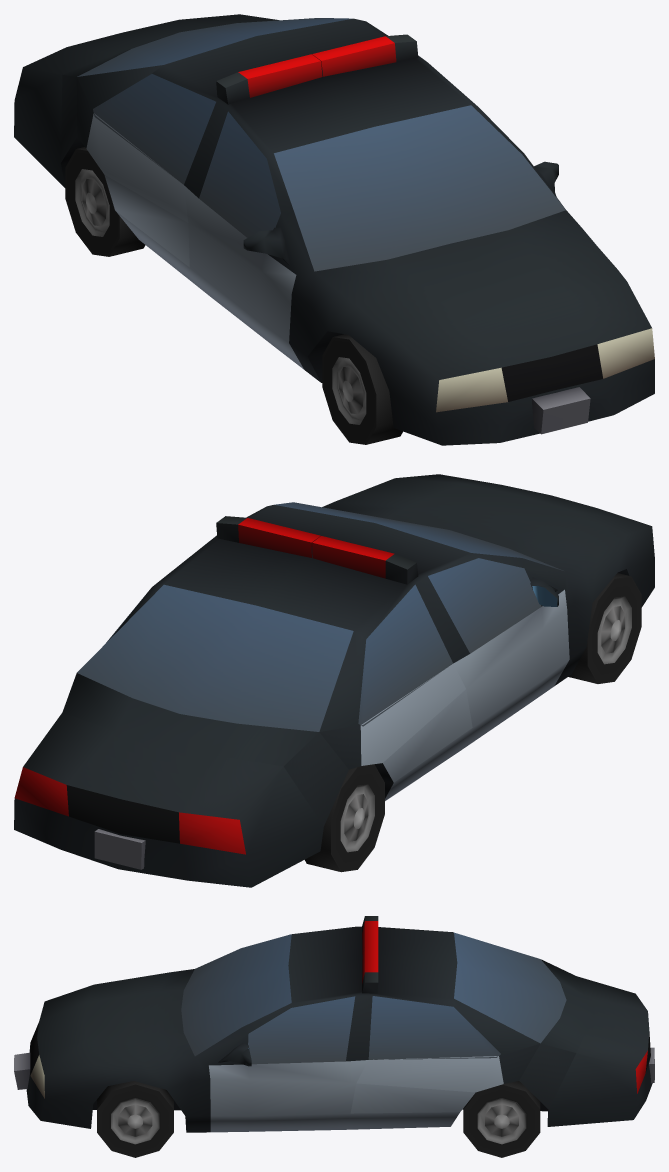
File: vehicles-cars-police-car_v1.fbx
3 renders of one model, top to bottom at view 1: azimuth 30°, elevation 25°; view 2: azimuth 150°, elevation 25°; view 3: azimuth 270°, elevation 25°, orthographic. The views are drawn at different scales.
Visible parts, largest first — view 1: Police Car; view 2: Police Car; view 3: Police Car.
Boxes of the visible parts, x1,y1,x2,y2 form: Police Car: (14, 14, 654, 445); Police Car: (14, 474, 654, 887); Police Car: (14, 916, 654, 1157).
Size of the model in its own units: 2.01 by 1.42 by 5.
